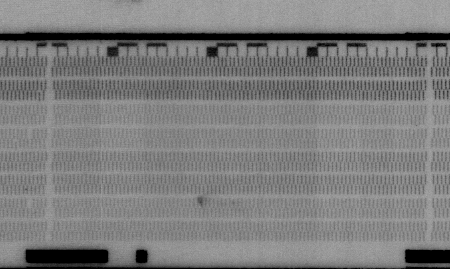Broken hole: (25, 127, 38, 140), (24, 198, 35, 210)
Oblique printing: (9, 138, 23, 153), (34, 89, 46, 101)
